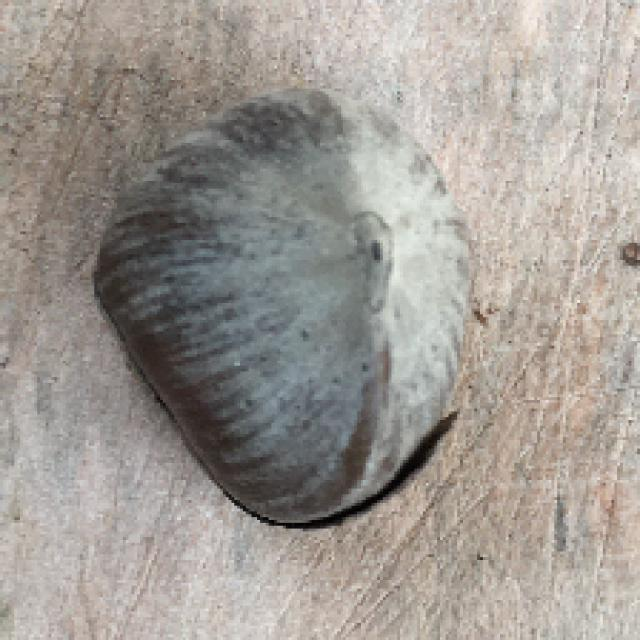damagedHazelnut: (91, 89, 487, 524)
